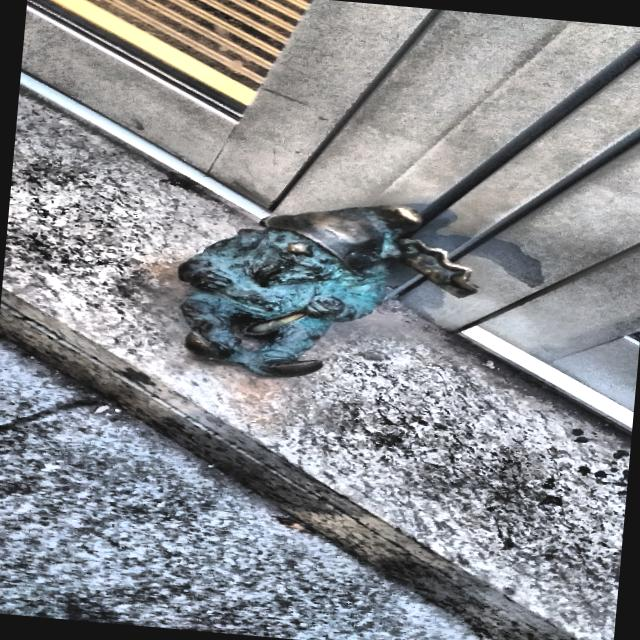Pieroznik: (177, 205, 474, 378)
